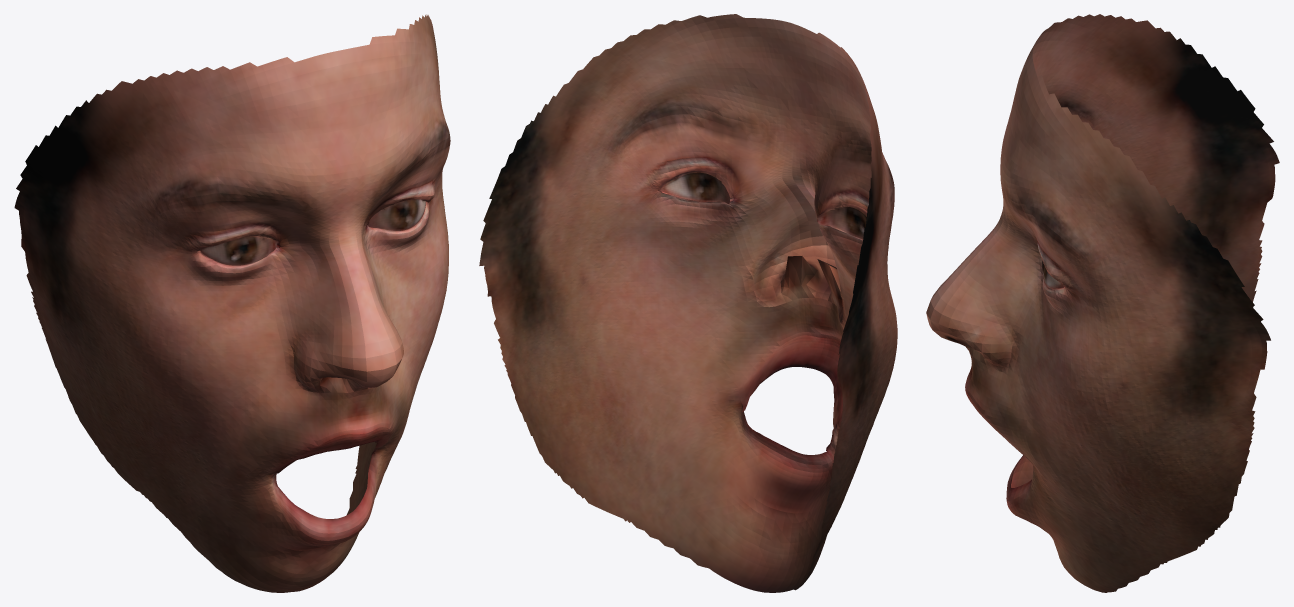
The model's file is surprise1_mesh.obj.
3 views of the same model, side by side, from view 1: azimuth 30°, elevation 25°; view 2: azimuth 150°, elevation 25°; view 3: azimuth 270°, elevation 25° (orthographic). The views are drawn at different scales.
Size of the model in its own units: 1.34 by 1.88 by 1.12.
